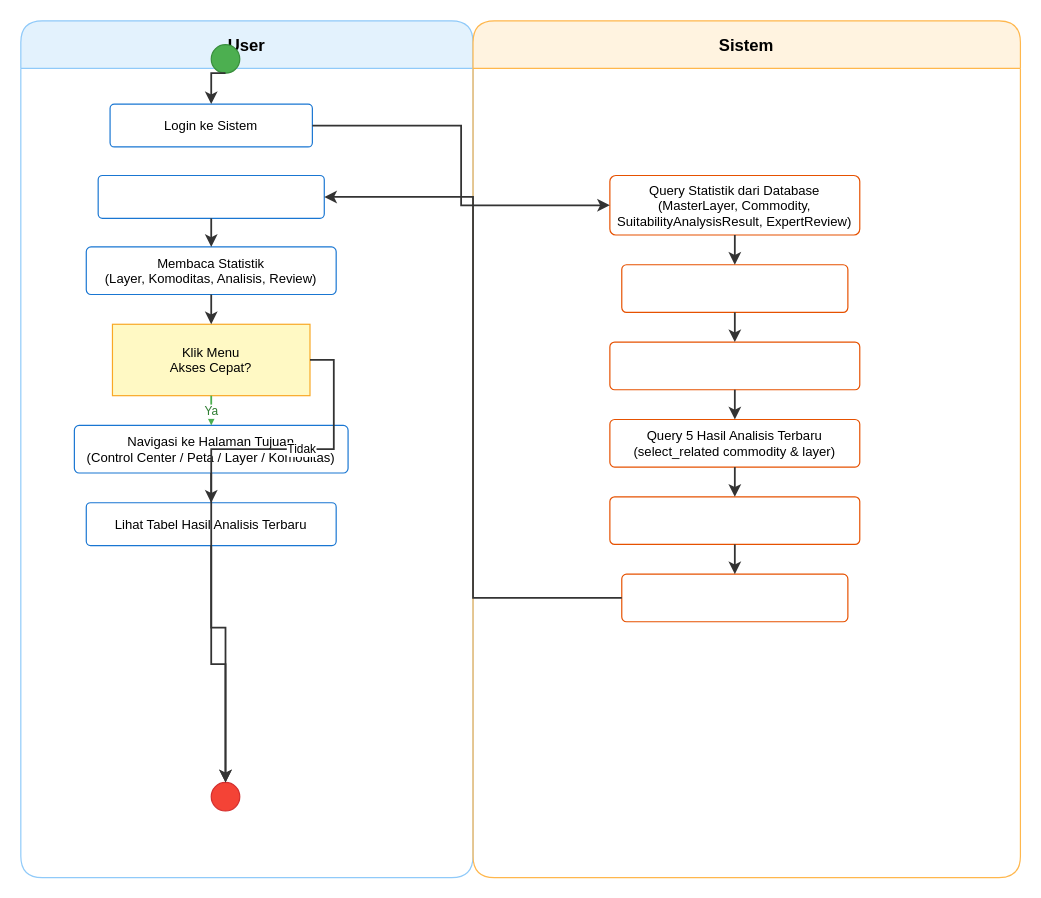
This 1041x898 diagram has some shape labels left out. Each missing label, with the centre of its shape:
"Lihat Halaman Dashboard" goes at pixel 210 196.
"Render 4 Stat Cards (Layer, Komoditas, Analisis, Review)" goes at pixel 734 288.
"Render Info Bar (Analisis Aktif, Layer Tersedia, Review)" goes at pixel 734 597.
"Render Menu Akses Cepat (Control Center, Peta, Layer, Komoditas)" goes at pixel 734 365.
"Render Tabel Hasil Terbaru (Komoditas, Layer, Status, Progress, Tanggal)" goes at pixel 734 520.
